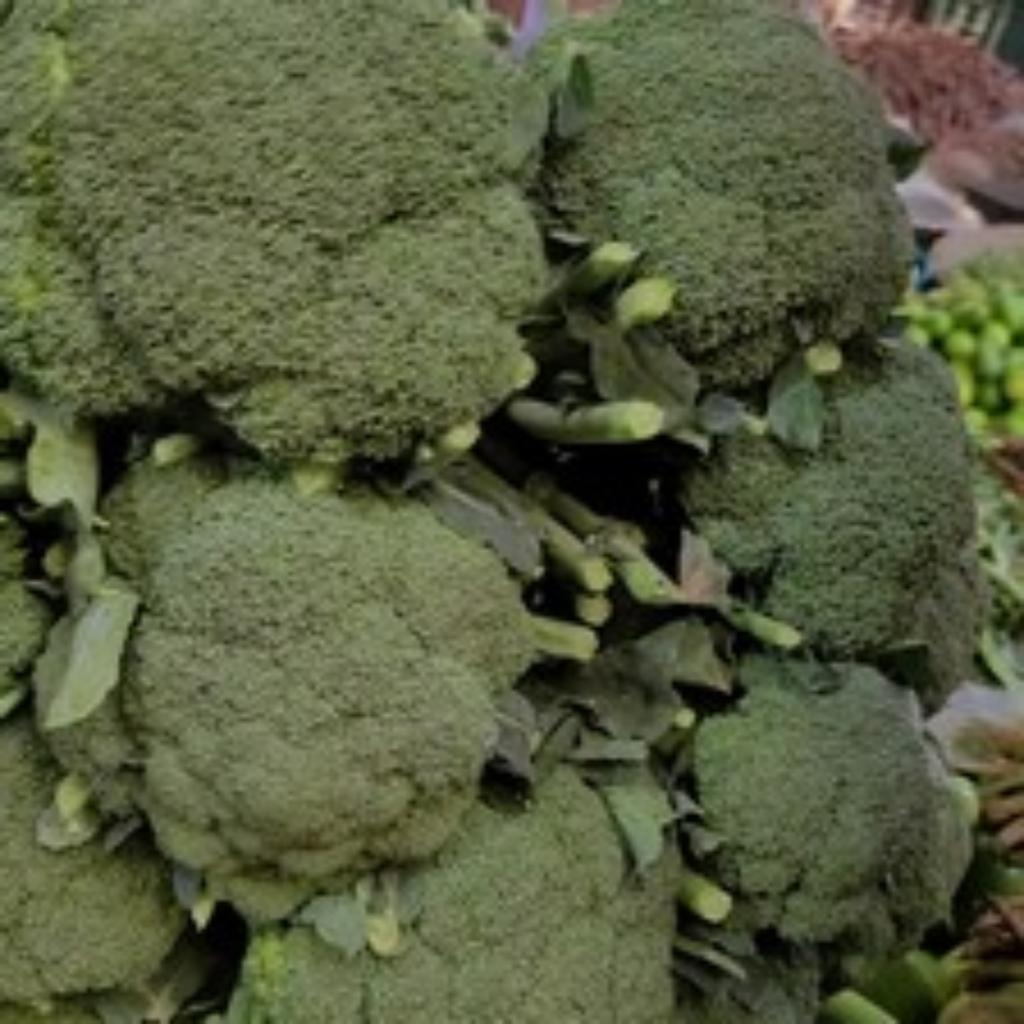Broccoli: (0, 0, 544, 457), (0, 6, 546, 457), (124, 480, 534, 879), (124, 480, 532, 879), (548, 2, 906, 387), (556, 0, 902, 385), (224, 764, 674, 1023), (686, 342, 982, 701)
